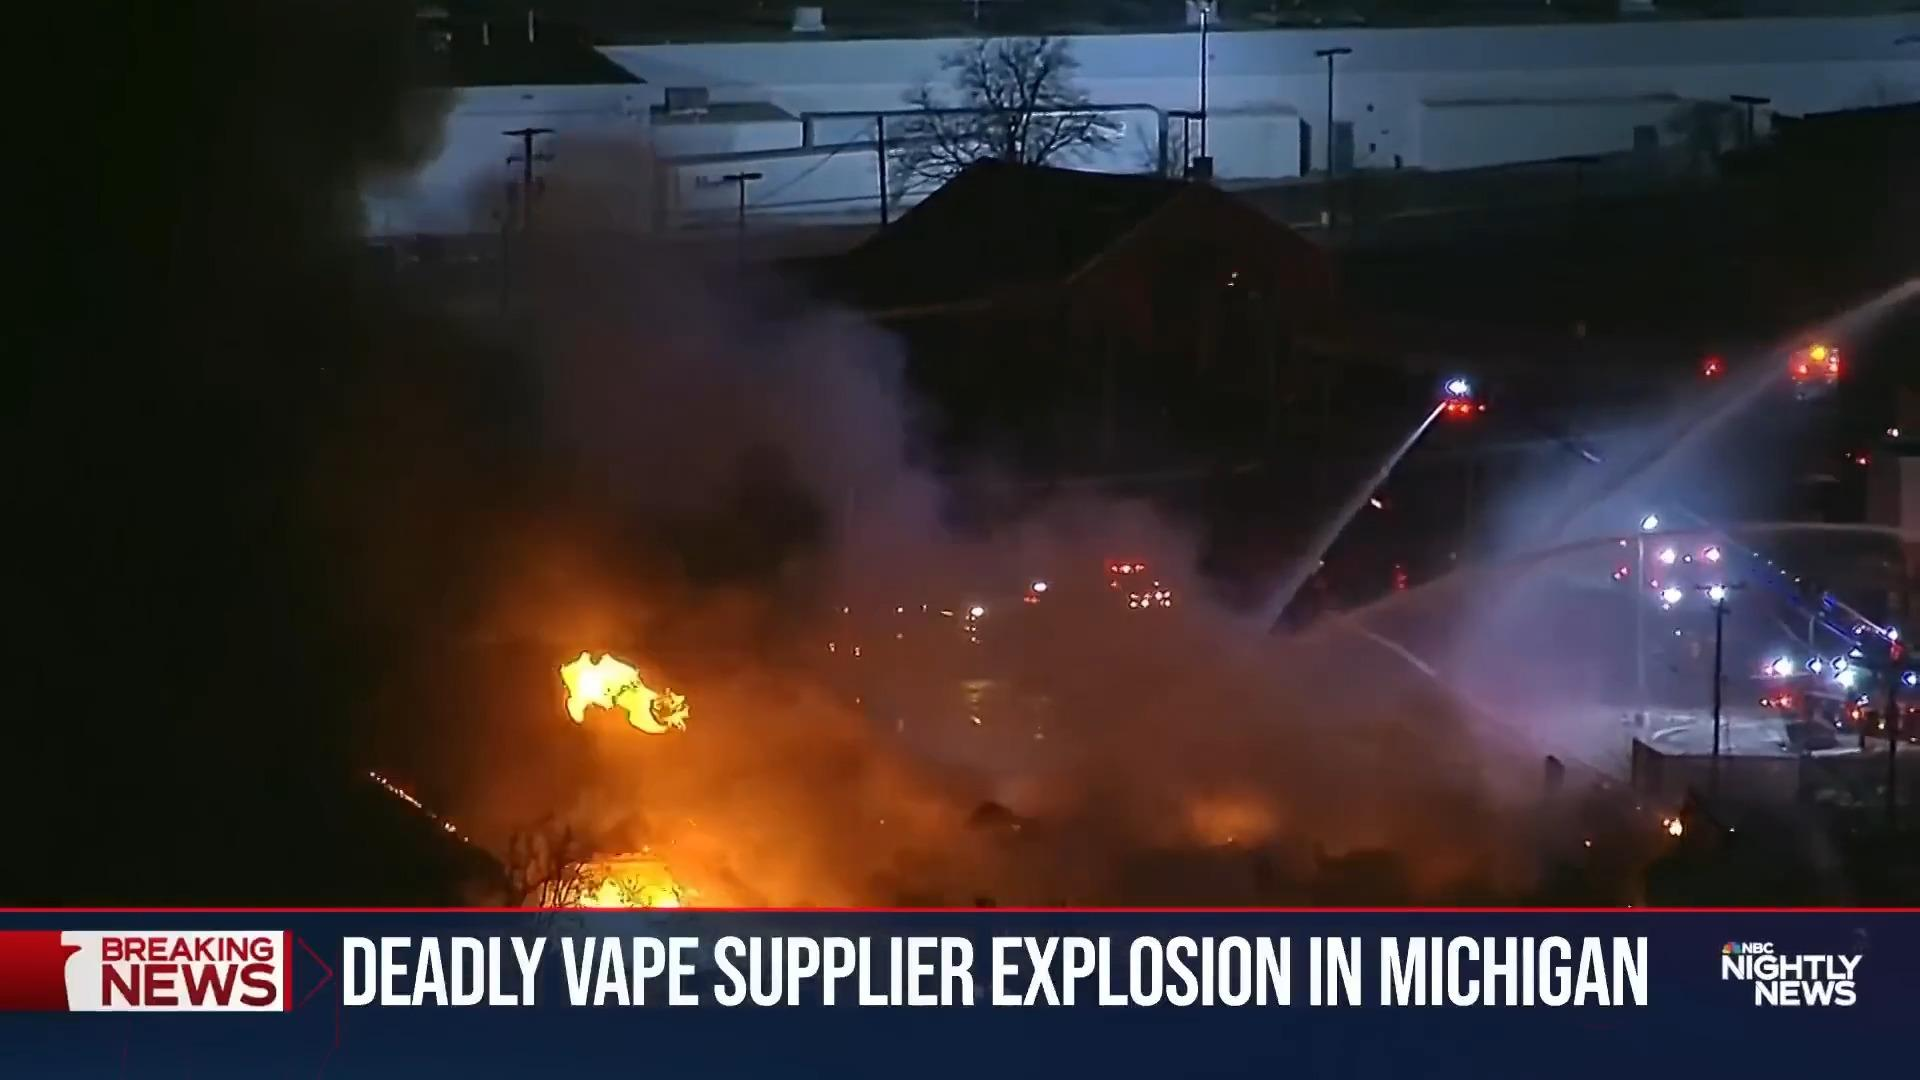fire: (483, 546, 774, 767), (487, 816, 798, 909)
